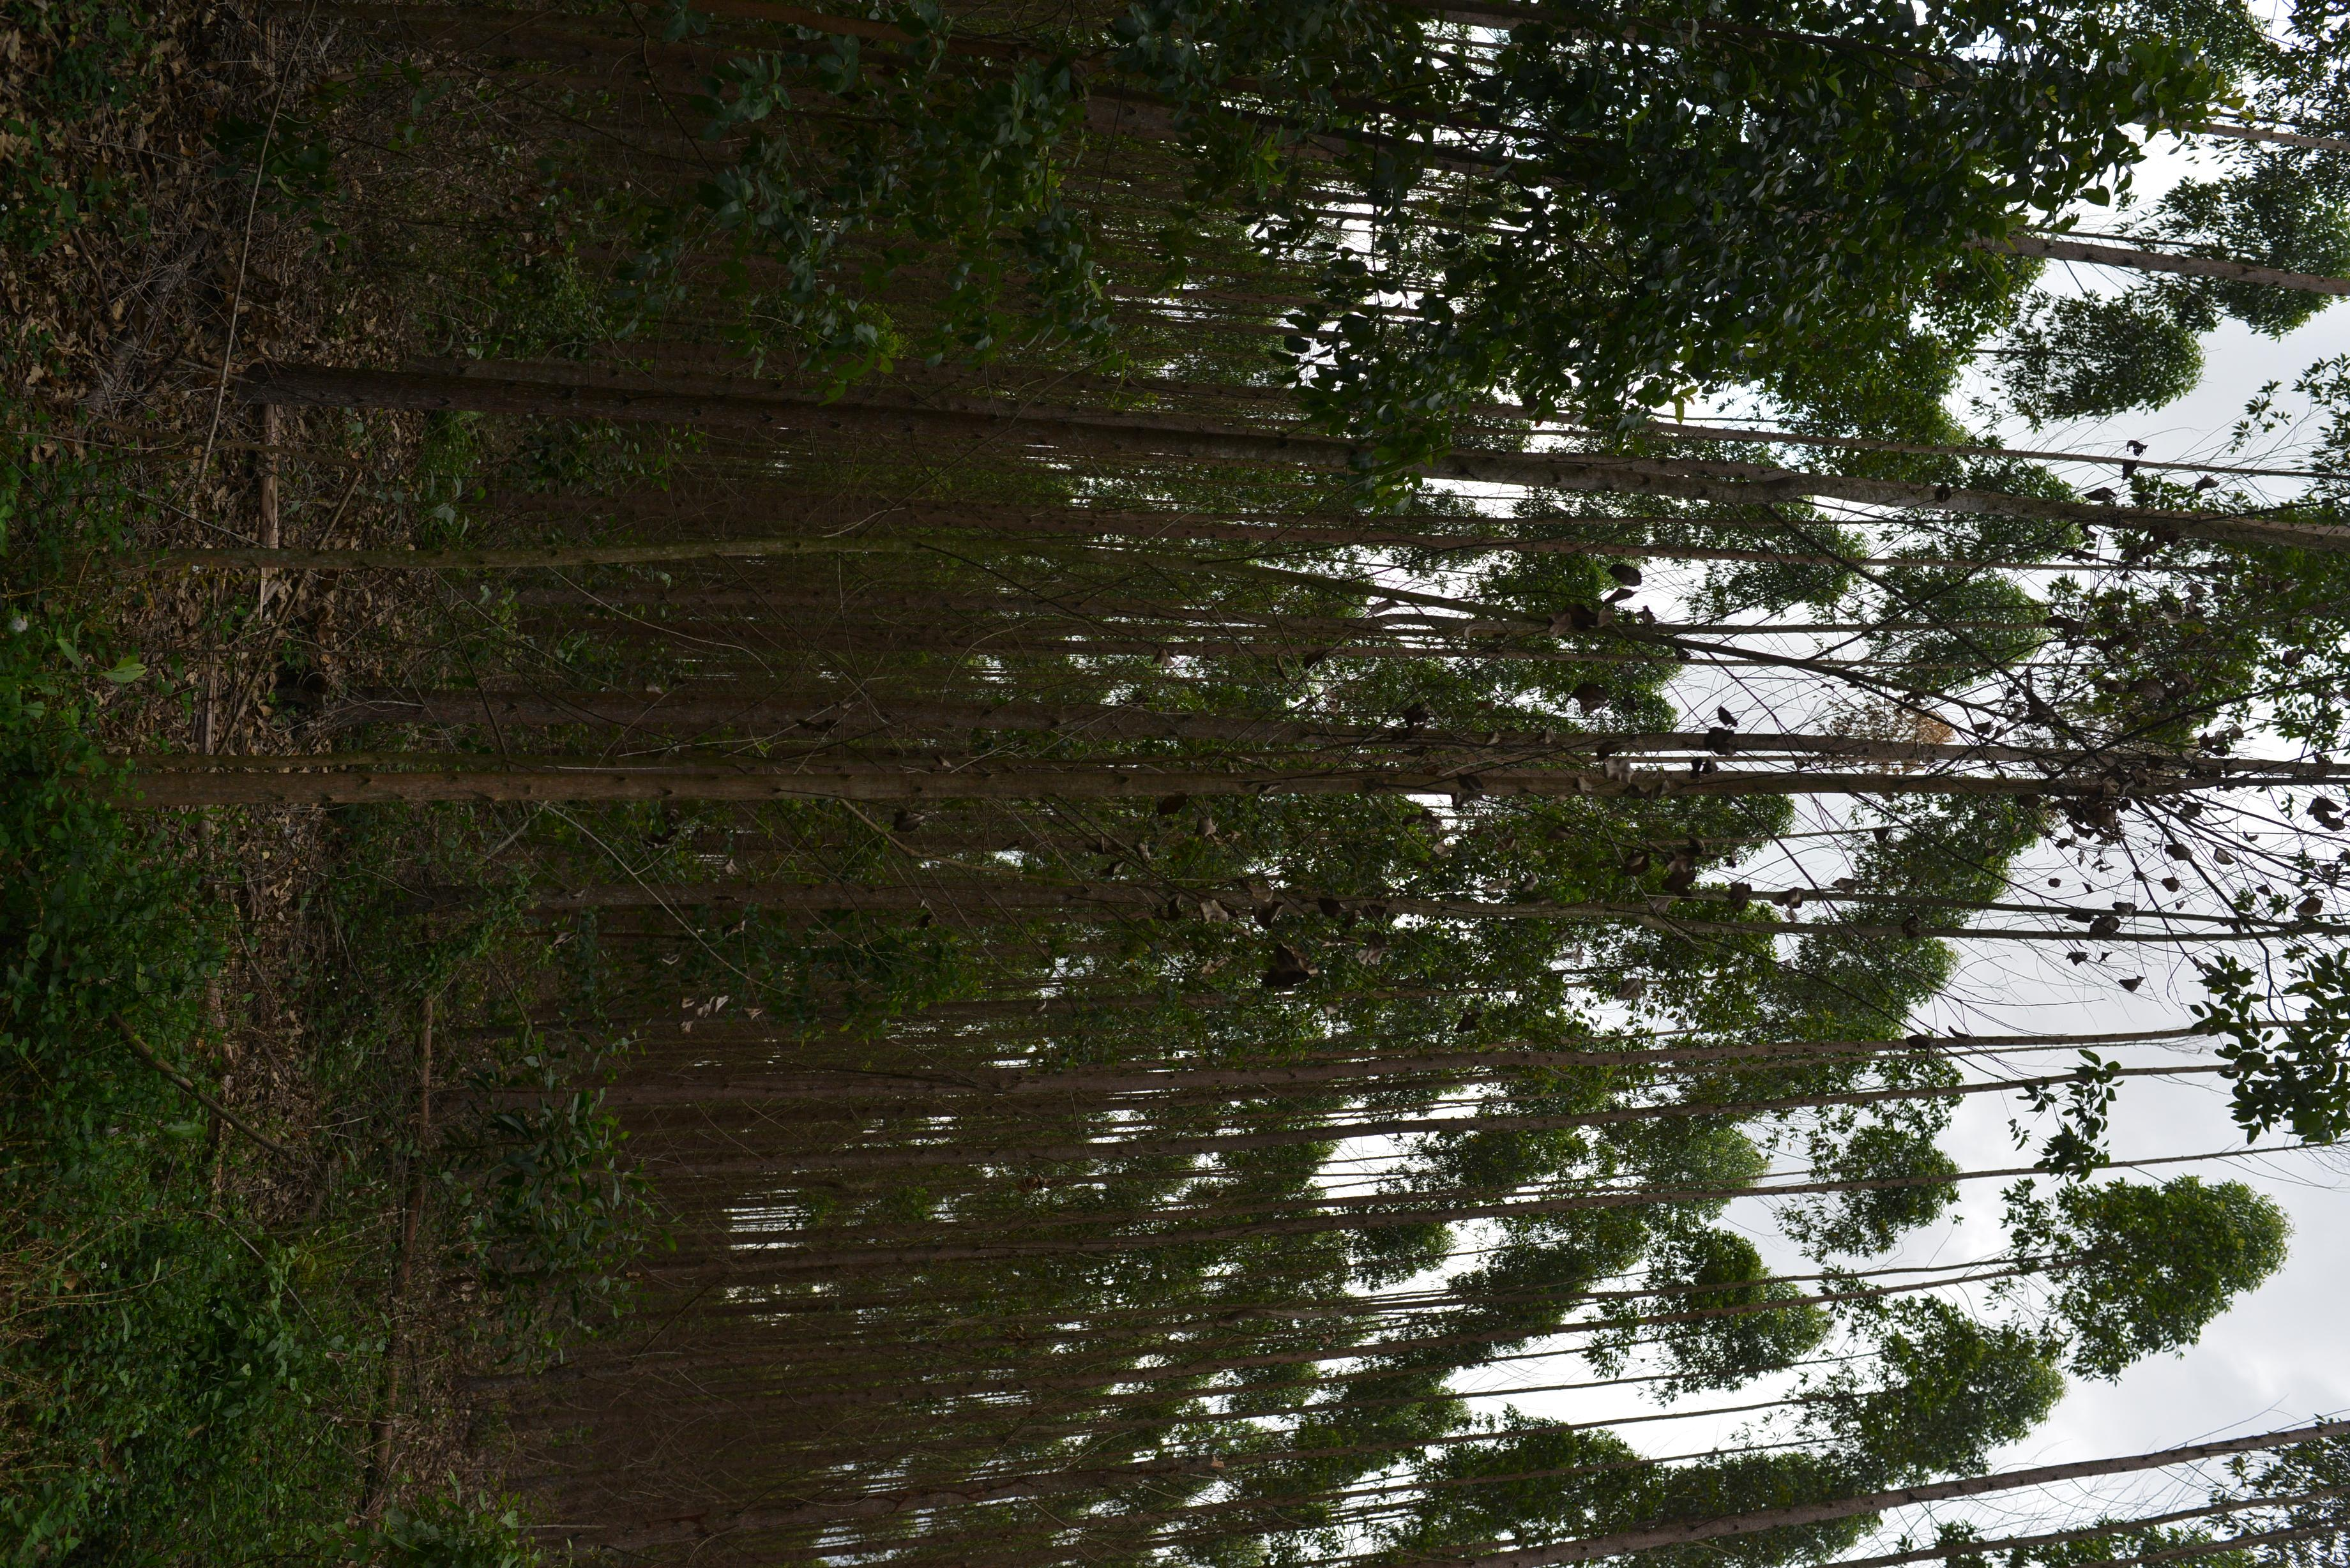Wither Tree Parts: (2063, 688, 2219, 870), (1942, 205, 2046, 306), (1837, 688, 1958, 770)
